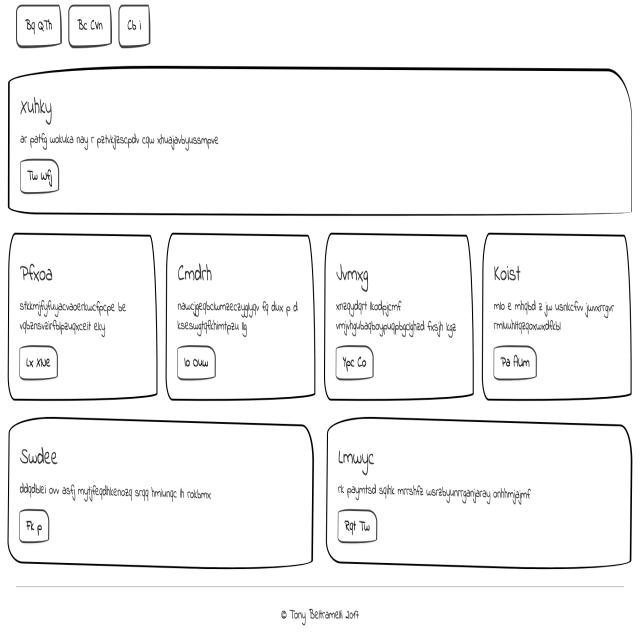Button: (332, 346, 383, 384), (173, 345, 219, 382), (490, 348, 542, 379), (14, 163, 66, 193), (16, 509, 53, 548), (19, 351, 59, 380)
Card: (3, 63, 634, 224), (320, 418, 632, 568), (5, 427, 310, 565), (8, 235, 158, 403), (172, 232, 318, 404), (485, 235, 627, 406), (328, 240, 471, 406)
Footer: (2, 587, 640, 640)
Heading 6: (332, 254, 380, 298), (329, 435, 384, 472), (172, 260, 228, 292), (16, 441, 73, 470), (17, 257, 59, 287), (484, 260, 528, 288), (15, 95, 56, 125)
Navigation Bar: (15, 3, 164, 46)
Paragraph: (12, 130, 237, 156), (329, 302, 458, 345), (15, 294, 139, 335), (175, 295, 305, 334), (335, 478, 543, 501), (493, 296, 614, 335), (16, 480, 225, 500)
